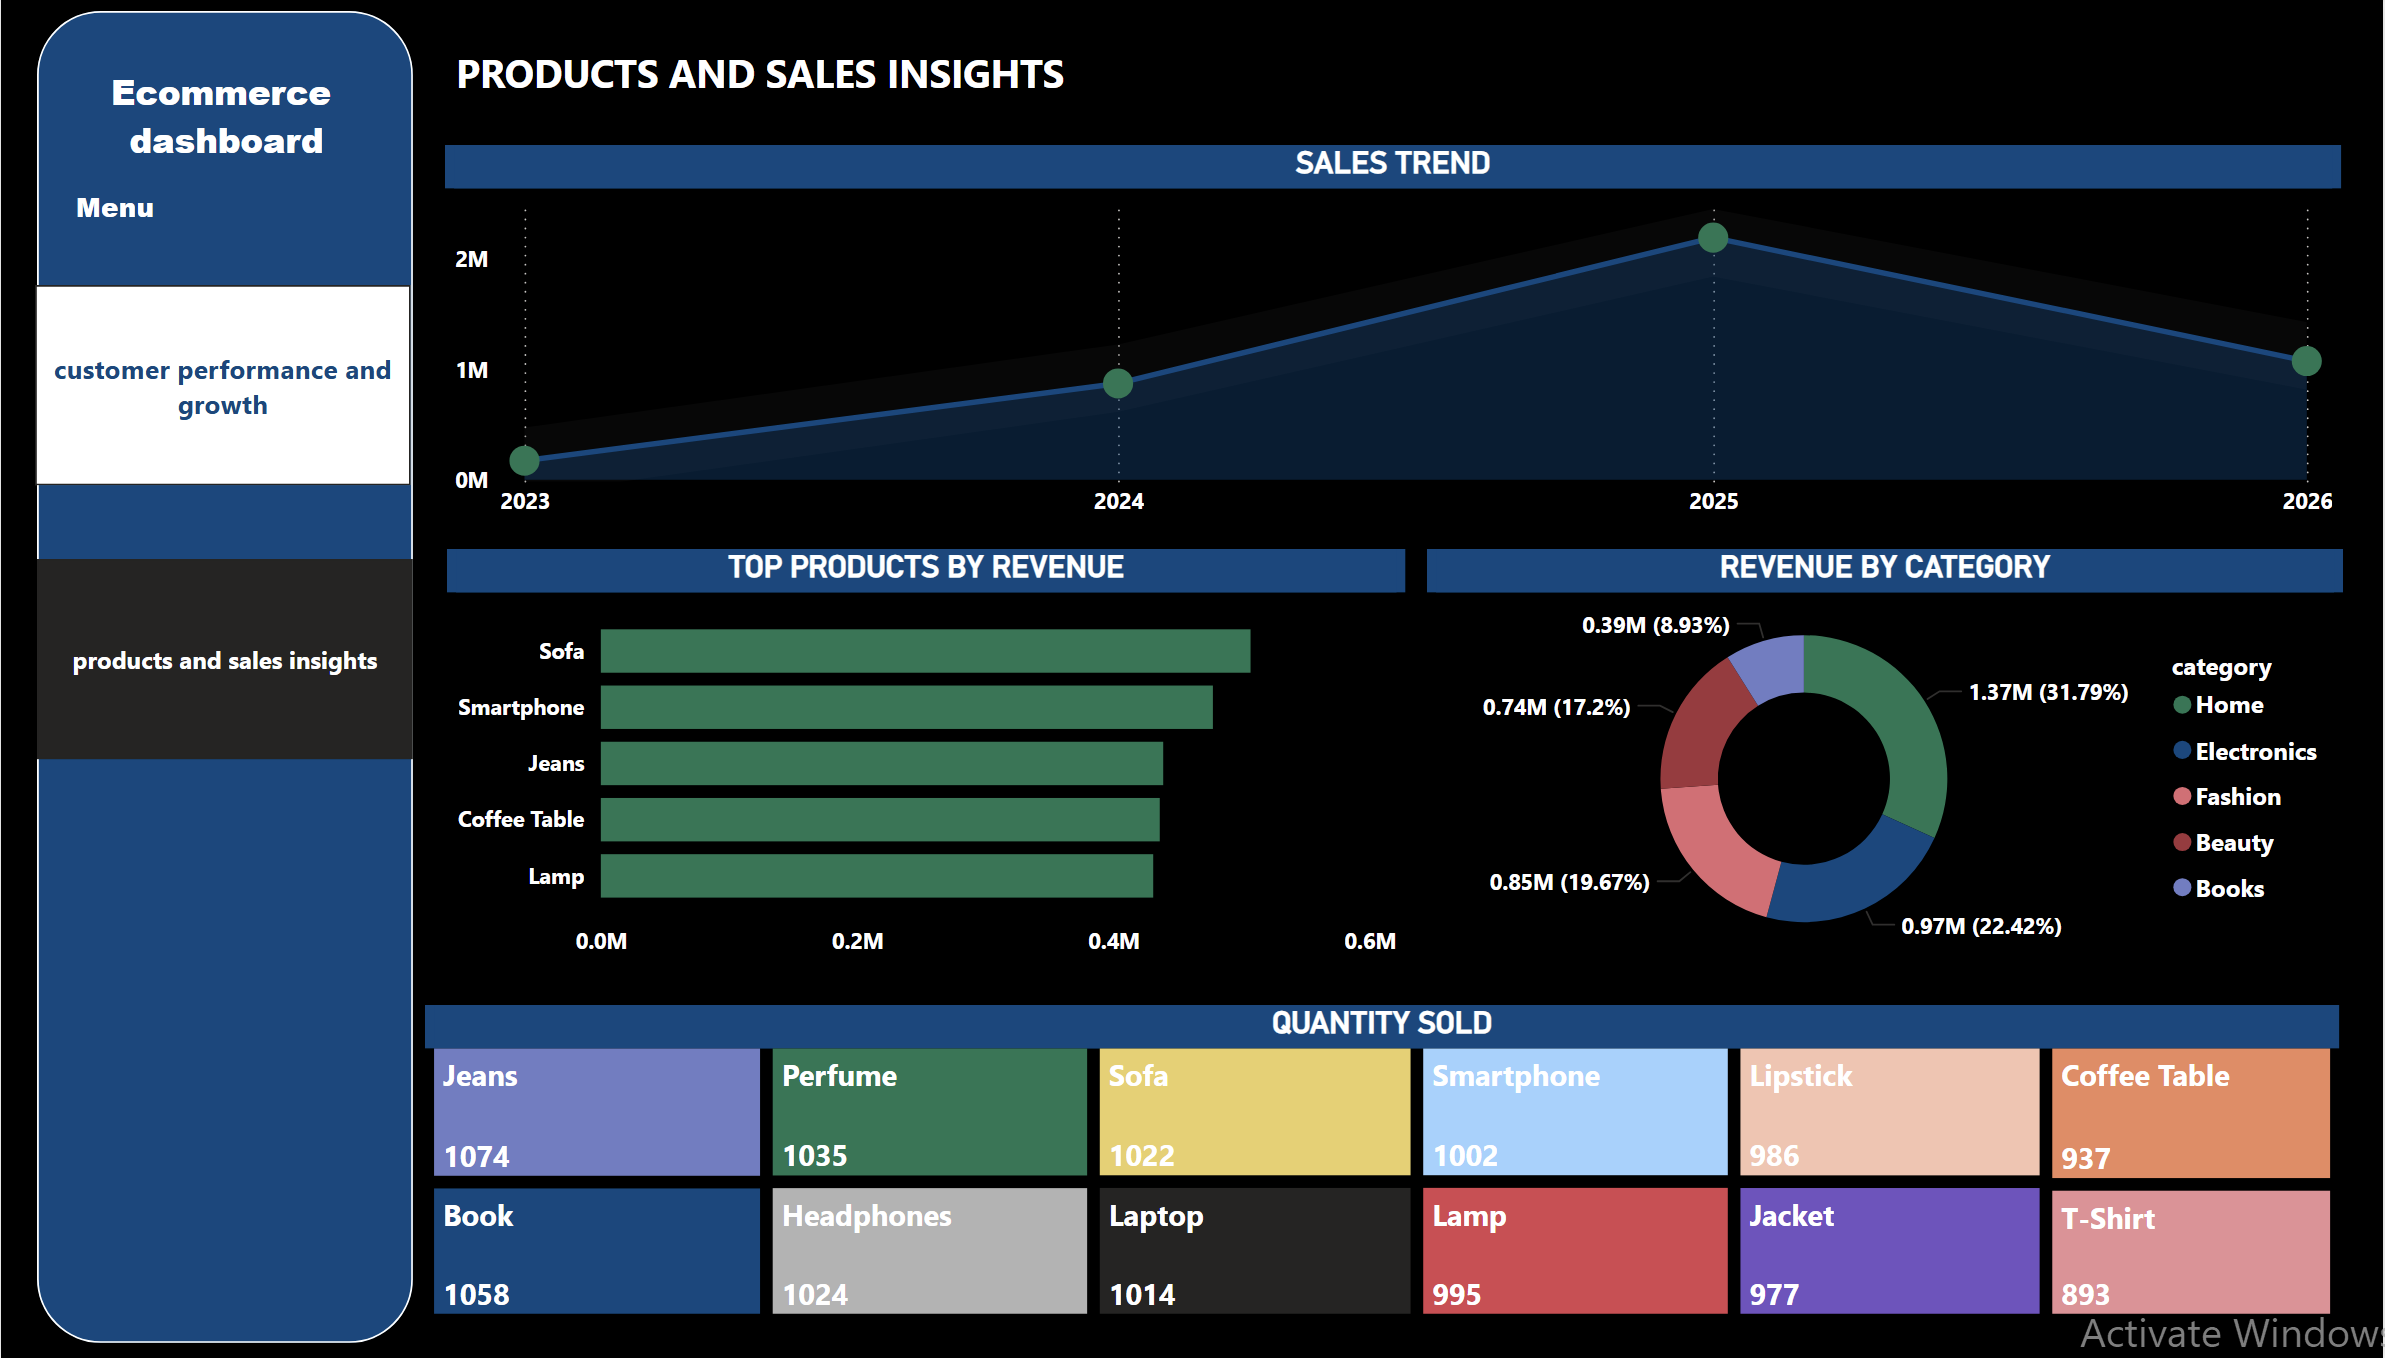

Layout of this report page (visuals, bound fields, positions):
{"tool":"powerbi","page":{"name":"products and sales insights","canvas":[1318,756],"ordinal":1},"visuals":[{"type":"group","id":"g1","title":"Group 1","box":[2.8,8.5,243,737.2],"z":0},{"type":"barChart","title":"TOP PRODUCTS BY REVENUE","fields":{"Category":["products.product_name"],"Y":["my_measures.Total Revenue"]},"box":[246.9,307,530.5,235.2],"z":1000},{"type":"treemap","title":"QUANTITY SOLD","fields":{"Group":["products.product_name"],"Values":["Sum(order_items.quantity)"]},"box":[235.2,559.4,1059.5,175.9],"z":2000},{"type":"donutChart","title":"REVENUE BY CATEGORY","fields":{"Category":["products.category"],"Y":["my_measures.Total Revenue"]},"box":[789.1,307,507.2,235.2],"z":3000},{"type":"shape","box":[19.1,8.5,208.1,737.2],"z":4000,"group":"g1"},{"type":"lineChart","title":"SALES TREND","fields":{"Category":["orders.order_date.Variation.Date Hierarchy.Year"],"Y":["my_measures.Total Revenue"]},"box":[245.2,83.4,1049.4,215.2],"z":4000},{"type":"textbox","box":[246.9,23.4,412.1,46.7],"z":4001},{"type":"pageNavigator","box":[18.4,160.2,208.5,111.8],"z":4002},{"type":"pageNavigator","box":[20,312,208.5,111.8],"z":4003},{"type":"textbox","box":[2.8,35,243,69.2],"z":5000,"group":"g1"},{"type":"textbox","box":[35.7,101.5,86.9,43.4],"z":7000,"group":"g1"}]}

Visuals, with their boxes on the page's 1318x756 design canvas (x1, y1, x2, y2). These are canvas units, not pixel positions in the 2385x1358 screenshot, which may show the page scaled, cropped or inside an application window:
"Group 1" group: {"x1": 3, "y1": 8, "x2": 246, "y2": 746}
"TOP PRODUCTS BY REVENUE" barChart: {"x1": 247, "y1": 307, "x2": 777, "y2": 542}
"QUANTITY SOLD" treemap: {"x1": 235, "y1": 559, "x2": 1295, "y2": 735}
"REVENUE BY CATEGORY" donutChart: {"x1": 789, "y1": 307, "x2": 1296, "y2": 542}
shape: {"x1": 19, "y1": 8, "x2": 227, "y2": 746}
"SALES TREND" lineChart: {"x1": 245, "y1": 83, "x2": 1295, "y2": 299}
textbox: {"x1": 247, "y1": 23, "x2": 659, "y2": 70}
pageNavigator: {"x1": 18, "y1": 160, "x2": 227, "y2": 272}
pageNavigator: {"x1": 20, "y1": 312, "x2": 228, "y2": 424}
textbox: {"x1": 3, "y1": 35, "x2": 246, "y2": 104}
textbox: {"x1": 36, "y1": 102, "x2": 123, "y2": 145}
